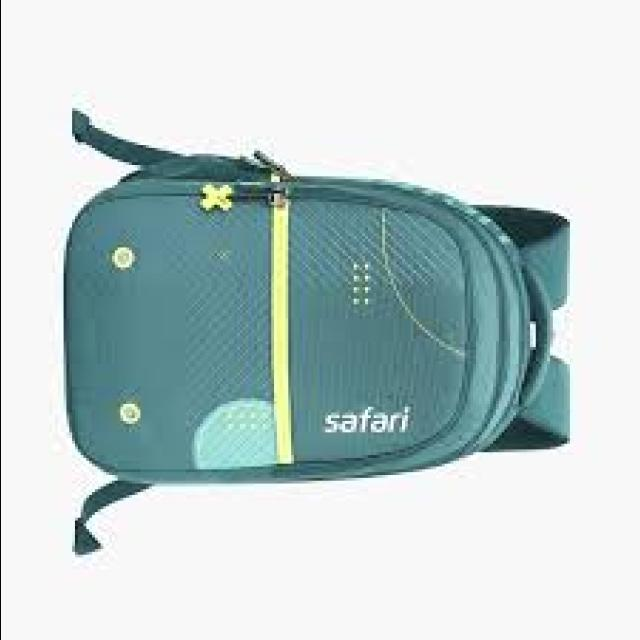backpack: (64, 106, 576, 556)
